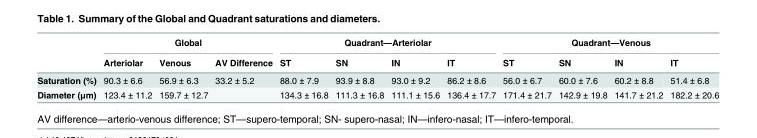table: (36, 36, 718, 99)
table column: (210, 36, 275, 99), (36, 36, 99, 99), (99, 36, 155, 99), (275, 36, 331, 99), (331, 36, 387, 99), (442, 36, 498, 99), (498, 36, 554, 99), (554, 36, 610, 99), (155, 36, 210, 99), (387, 36, 442, 99), (610, 36, 665, 99), (665, 36, 718, 99)
table column header: (36, 36, 718, 70)
table row: (36, 51, 718, 70), (36, 70, 718, 86), (36, 36, 718, 51), (36, 86, 718, 99)
table spanning cell: (275, 36, 498, 51), (498, 36, 718, 51), (99, 36, 275, 51)
